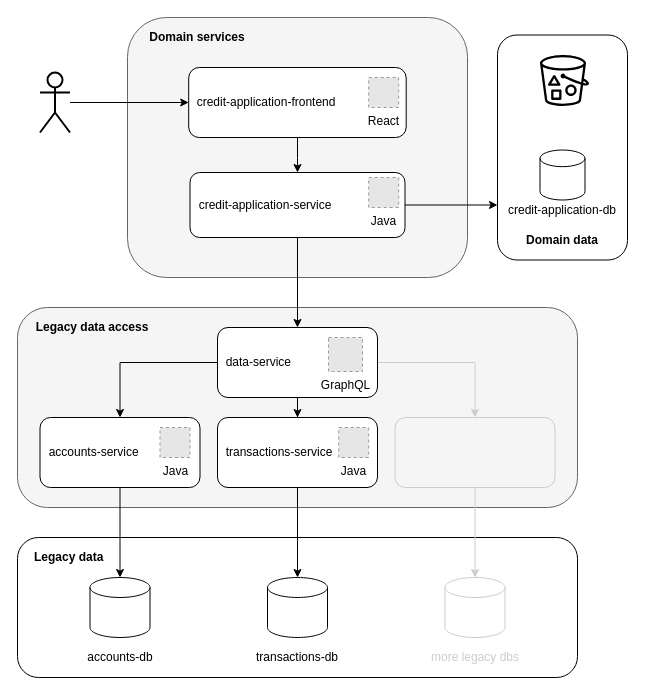
This 645x695 diagram has some shape labels left out. Grey dashed boxes stand in for pictures. Here are the shapes that lost their labels. From the top down, the centre of each, then its label:
At pixel 564 80: "documents".
At pixel 54 102: "User".
At pixel 474 452: "more data access services".
